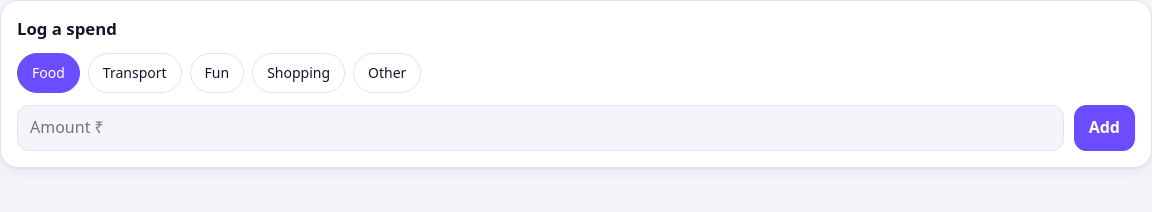
Test: QuickLog › shows an accessible error for an invalid amount and does not log
Step 1. Type "-5" into the number field named "spend amount" → x=540, y=128, box [17,105,1064,150]
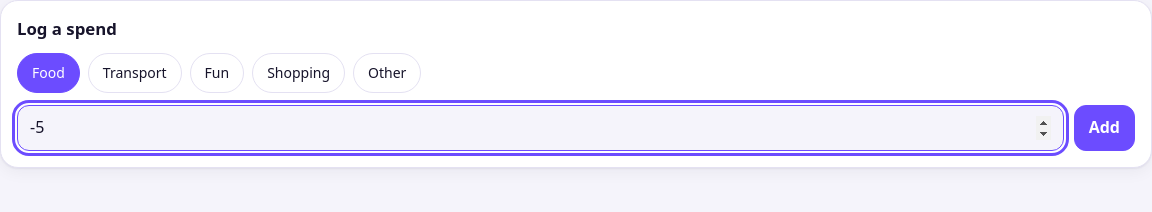
Step 2. Click the button "Add" → x=1104, y=128, box [1074,105,1135,150]
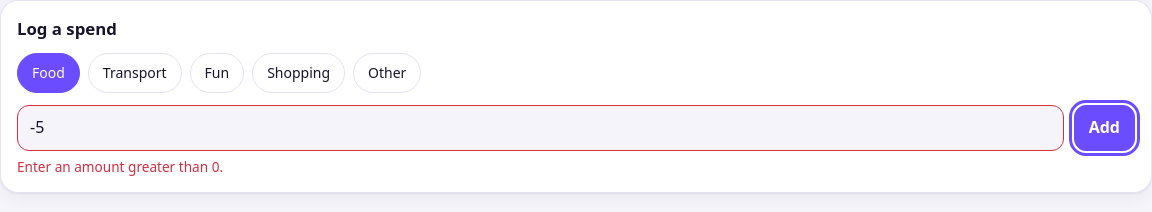
Expected: the message shows "greater than 0", [17,156,223,176]
